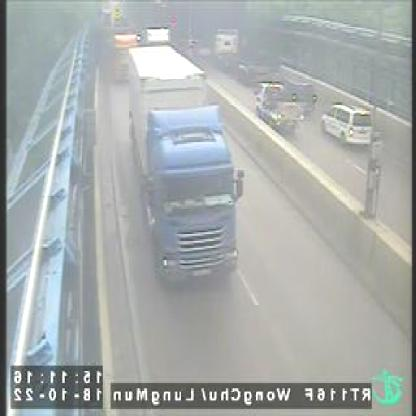Car: (321, 101, 373, 148)
Truck: (125, 46, 245, 288), (253, 81, 305, 138)
